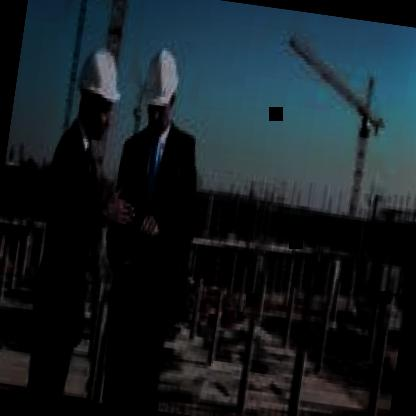helmet: (72, 42, 132, 140), (132, 38, 188, 142)
